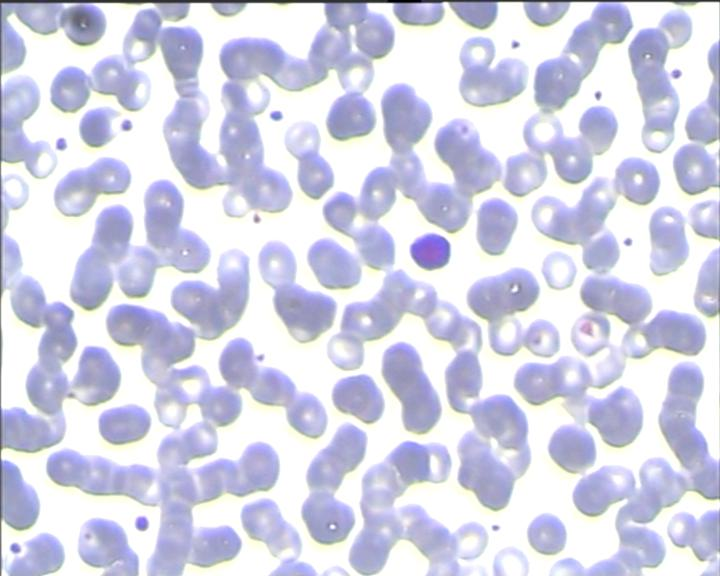lymp: (407, 229, 458, 274)
